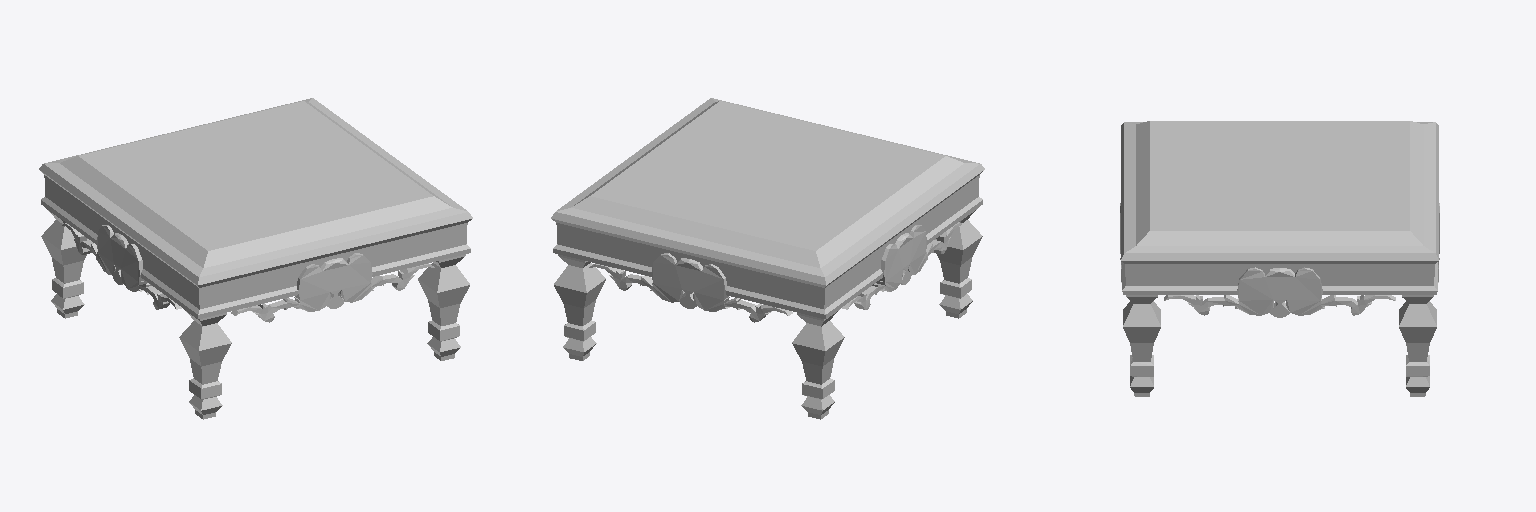
Rendered from CarvedTable.obj.
3 views of the same model, side by side, from view 1: azimuth 30°, elevation 25°; view 2: azimuth 150°, elevation 25°; view 3: azimuth 270°, elevation 25° (orthographic).
Parts seen in each view (by area): view 1: CarvedTable_LOD02 Mesh Mesh; view 2: CarvedTable_LOD02 Mesh Mesh; view 3: CarvedTable_LOD02 Mesh Mesh.
Boxes of the visible parts, x1,y1,x2,y2 form: CarvedTable_LOD02 Mesh Mesh: [39, 98, 472, 419]; CarvedTable_LOD02 Mesh Mesh: [551, 98, 984, 419]; CarvedTable_LOD02 Mesh Mesh: [1120, 121, 1439, 396].
Bounding box in the file's own units: 85.2 × 46.96 × 85.2.